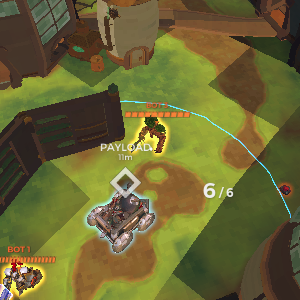model: (1, 265, 45, 296), (133, 119, 165, 151)
